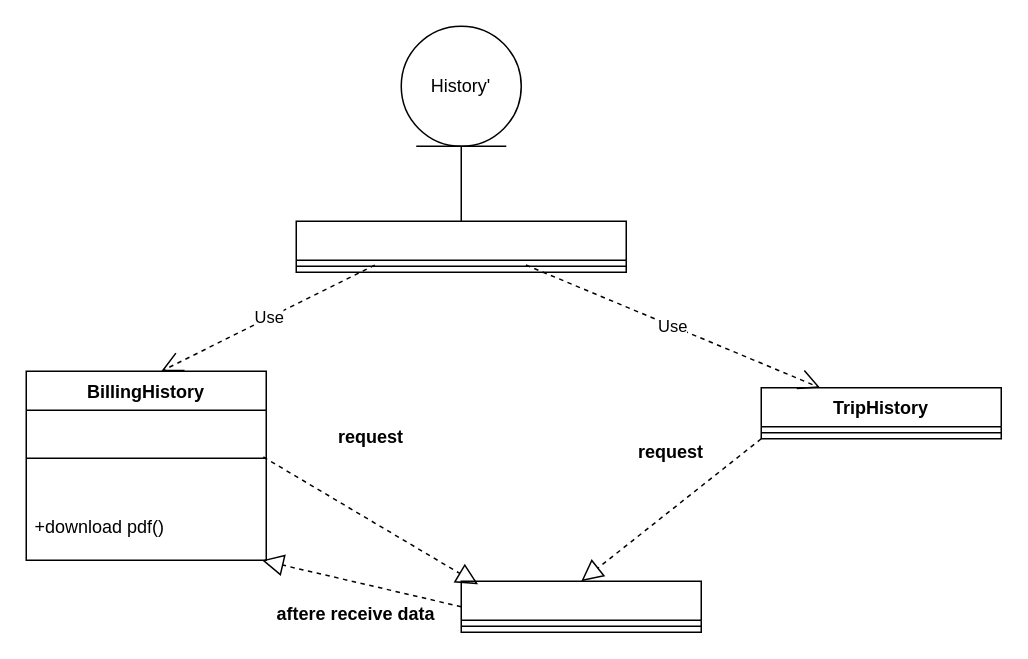
Image size: 1028x659. Some labels were removed from this diagram. Each missing label, with the centre of its shape:
"backend-database request" belongs at [580,606].
"HistoryPage" belongs at [460,246].
